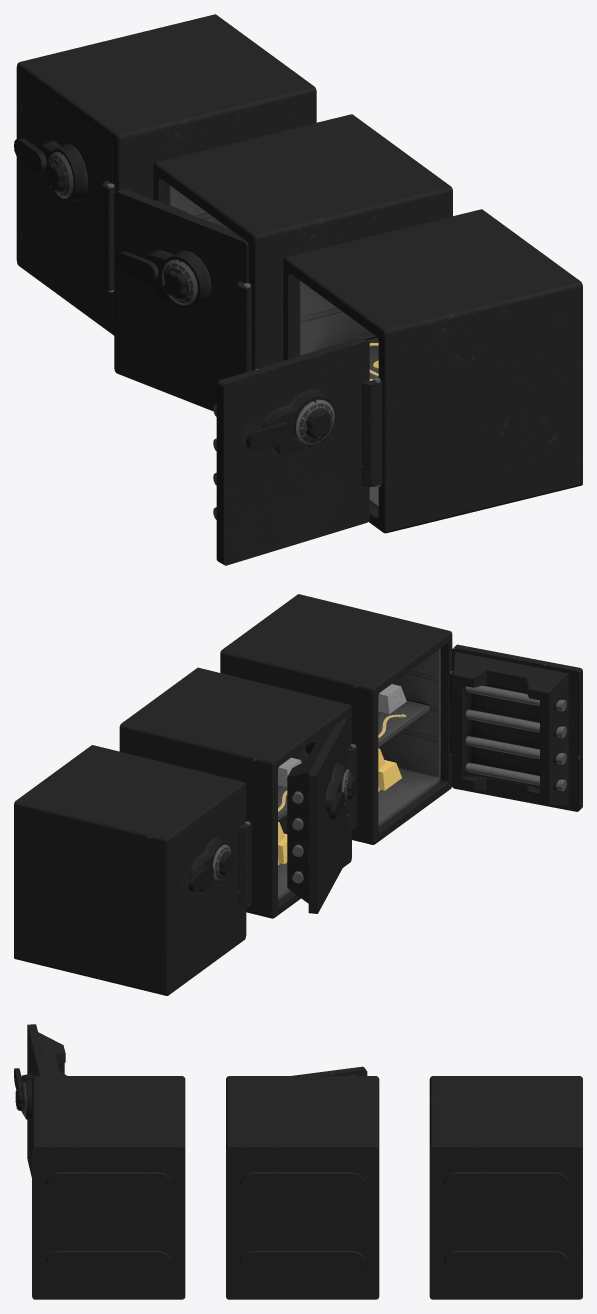
The model's file is Safe_Vault_TRIO.fbx.
The picture shows the model from 3 angles, top to bottom: view 1: azimuth 30°, elevation 25°; view 2: azimuth 150°, elevation 25°; view 3: azimuth 270°, elevation 25°; orthographic projection. The views are drawn at different scales.
Parts seen in each view (by area): view 1: Safe_Vault_Open, Safe_Vault_Closed, Safe_Vault, Safe_Vault_Door.001, Safe_Vault_Door, Cylinder.015, Cylinder.017, Cube.011, Cube.013; view 2: Safe_Vault_Closed, Safe_Vault_Open, Safe_Vault, Safe_Vault_Door.001, Safe_Vault_Door, Bullion_Gold_1.001, Bullion_Gold_2.001; view 3: Safe_Vault, Safe_Vault_Closed, Safe_Vault_Open, Safe_Vault_Door.001, Safe_Vault_Door.
Part boxes in pixels (<box>): Safe_Vault_Open: <box>283,209,582,533</box>; Safe_Vault_Closed: <box>14,14,316,335</box>; Safe_Vault: <box>153,114,452,370</box>; Safe_Vault_Door.001: <box>213,337,382,565</box>; Safe_Vault_Door: <box>114,188,251,411</box>; Cylinder.015: <box>295,399,334,444</box>; Cylinder.017: <box>162,259,198,305</box>; Cube.011: <box>246,422,294,451</box>; Cube.013: <box>114,251,158,282</box>; Safe_Vault_Closed: <box>14,745,251,995</box>; Safe_Vault_Open: <box>220,594,452,844</box>; Safe_Vault: <box>119,667,351,918</box>; Safe_Vault_Door.001: <box>450,644,582,811</box>; Safe_Vault_Door: <box>287,717,357,913</box>; Bullion_Gold_1.001: <box>378,684,406,738</box>; Bullion_Gold_2.001: <box>378,748,401,791</box>; Safe_Vault: <box>226,1076,379,1299</box>; Safe_Vault_Closed: <box>429,1076,582,1299</box>; Safe_Vault_Open: <box>32,1076,185,1299</box>; Safe_Vault_Door.001: <box>21,1024,66,1177</box>; Safe_Vault_Door: <box>292,1066,367,1075</box>.
Size of the model in its own units: 65.88 by 35.02 by 119.
